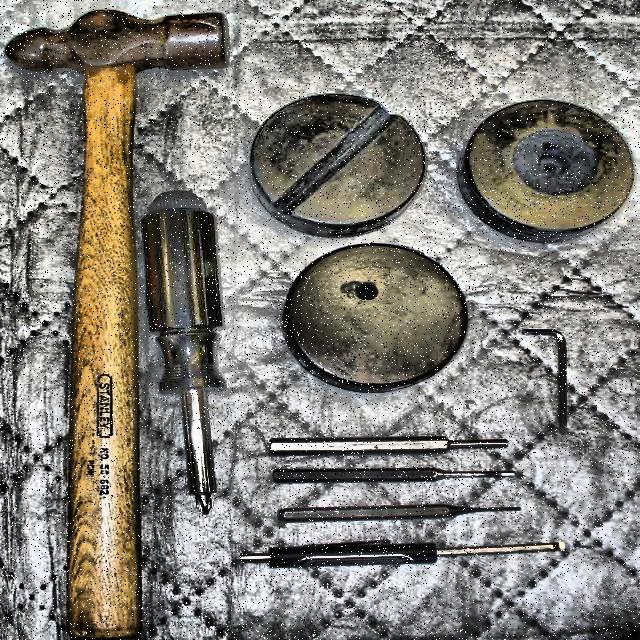hammer: (9, 4, 229, 634)
